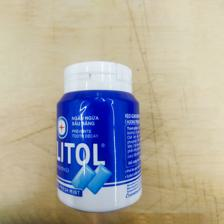Xylitol_blue: (54, 60, 144, 216)
